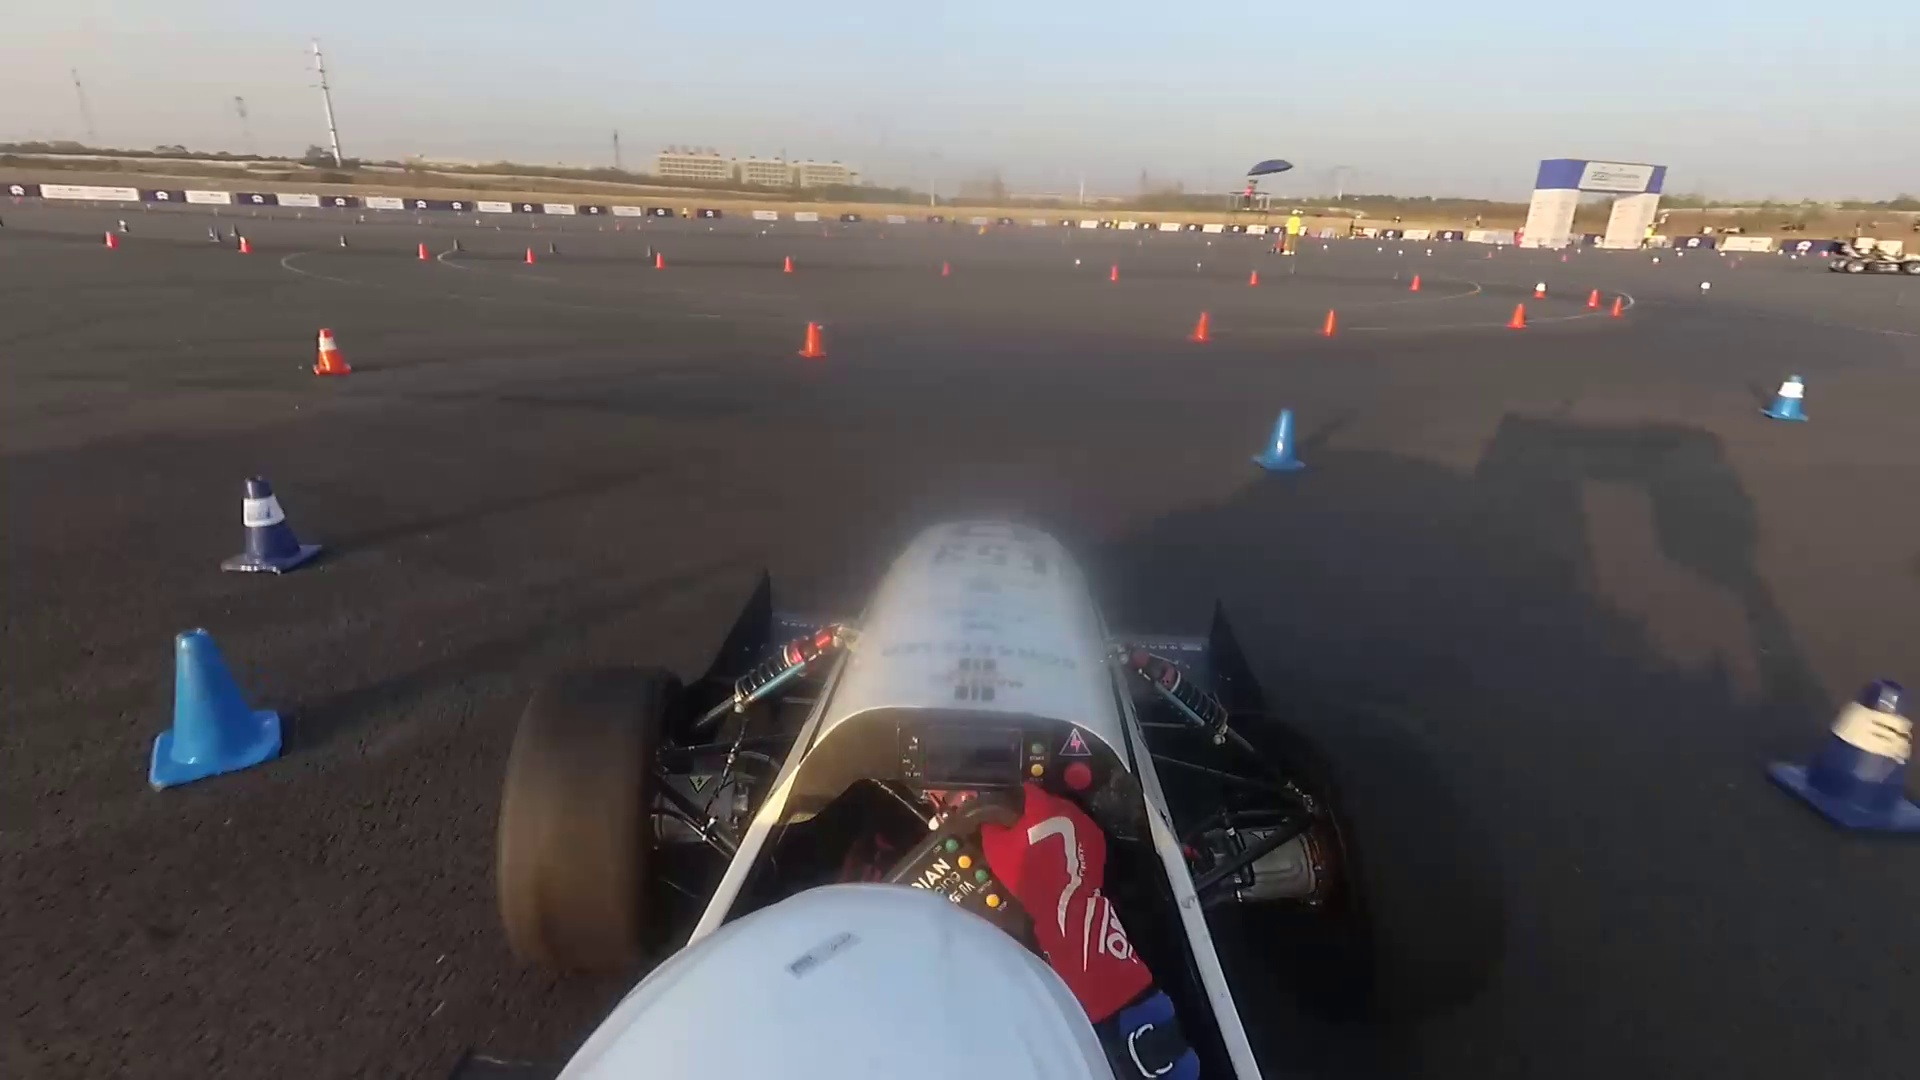blue_cone: (144, 641, 280, 793), (1788, 684, 1908, 829), (229, 477, 316, 578), (1254, 407, 1299, 471), (1778, 375, 1808, 419), (111, 212, 133, 235), (448, 235, 467, 255), (336, 233, 353, 251), (224, 222, 243, 237), (208, 222, 220, 245)
red_cone: (309, 328, 352, 378), (1317, 301, 1350, 347), (1189, 309, 1216, 349), (1507, 301, 1534, 332), (800, 324, 825, 357), (1404, 272, 1429, 295), (1106, 261, 1126, 287), (1586, 281, 1604, 311), (1532, 276, 1549, 305), (100, 225, 117, 249), (1613, 293, 1627, 320), (1246, 264, 1261, 287), (415, 243, 429, 260), (524, 248, 535, 264), (654, 253, 666, 268), (785, 257, 795, 272), (940, 262, 952, 274), (240, 237, 251, 251)
